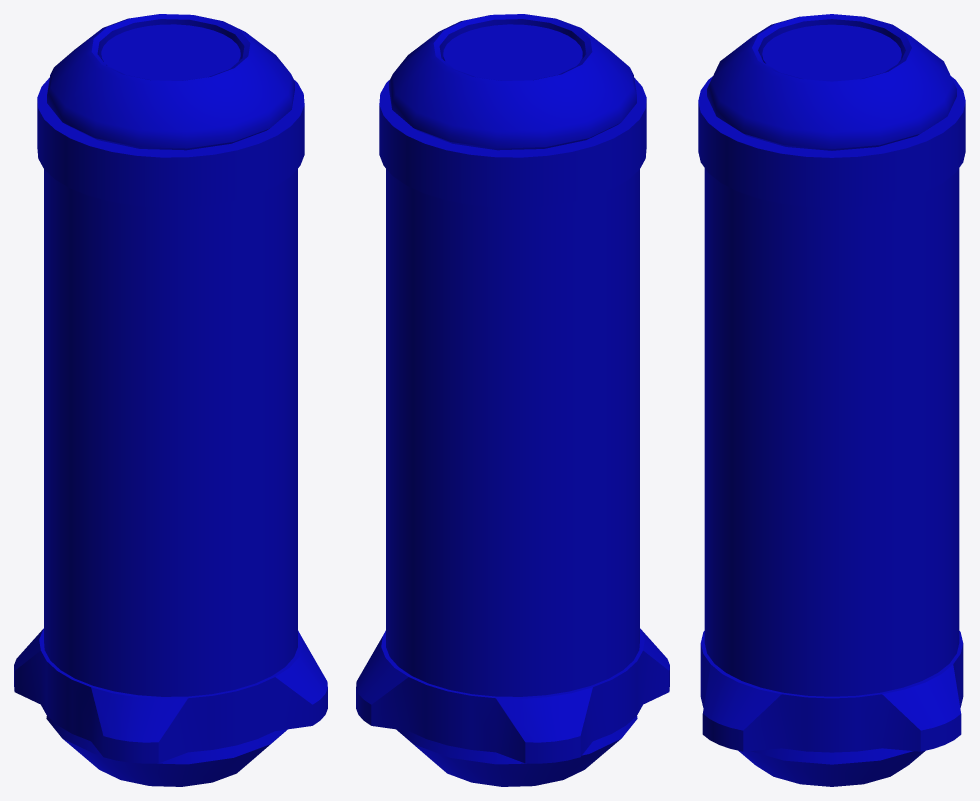
File: Shells.fbx
The picture shows the model from 3 angles, left to right: view 1: azimuth 30°, elevation 25°; view 2: azimuth 150°, elevation 25°; view 3: azimuth 270°, elevation 25°; orthographic projection.
Visible parts, largest first — view 1: 05, 02, 01; view 2: 05, 02, 01; view 3: 05, 02, 01.
Boxes of the visible parts, x1,y1,x2,y2 form: 05: [44, 169, 297, 696]; 02: [14, 24, 327, 763]; 01: [46, 14, 294, 786]; 05: [386, 169, 639, 696]; 02: [356, 24, 669, 763]; 01: [389, 14, 637, 786]; 05: [704, 168, 959, 696]; 02: [698, 24, 965, 752]; 01: [707, 14, 956, 786].
Size of the model in its own units: 141 by 409 by 141.
